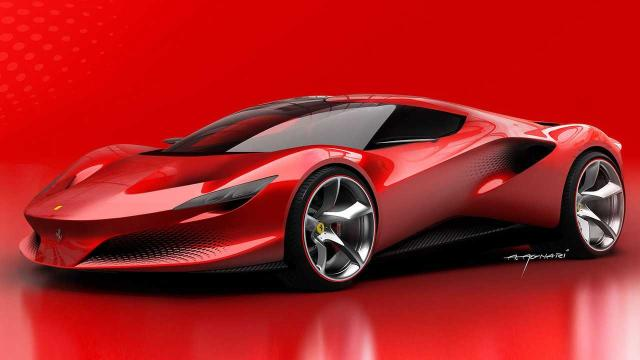ferrari: (18, 93, 626, 290)
